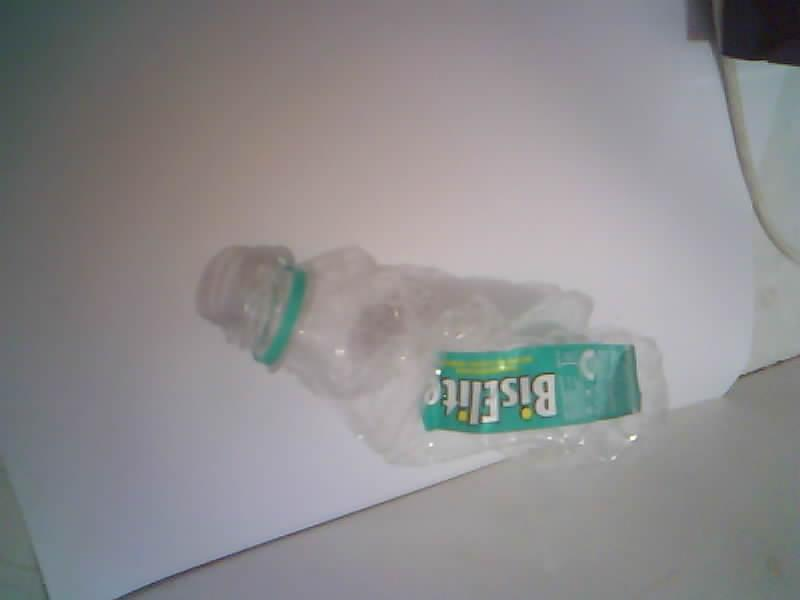non-biodegradable: (198, 247, 667, 465)
